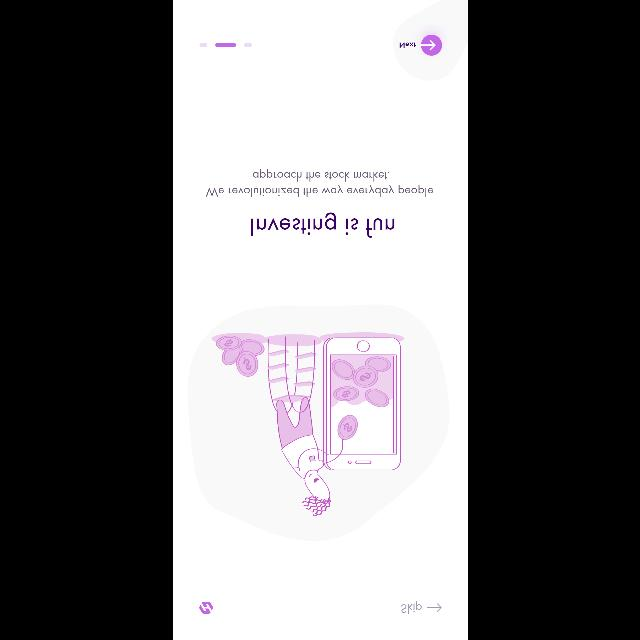icon: (420, 34, 442, 56), (426, 603, 442, 611)
image: (210, 332, 404, 516)
pageindicator: (198, 43, 252, 47)
text: (205, 169, 433, 197), (250, 212, 394, 238), (401, 600, 422, 614), (399, 42, 415, 48)
